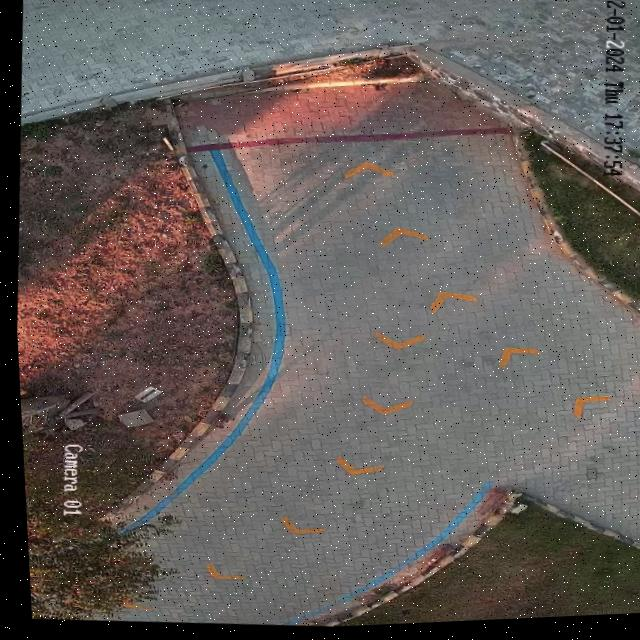No Car: (13, 0, 640, 629)
